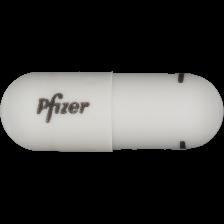49999-949: (0, 0, 224, 224)
